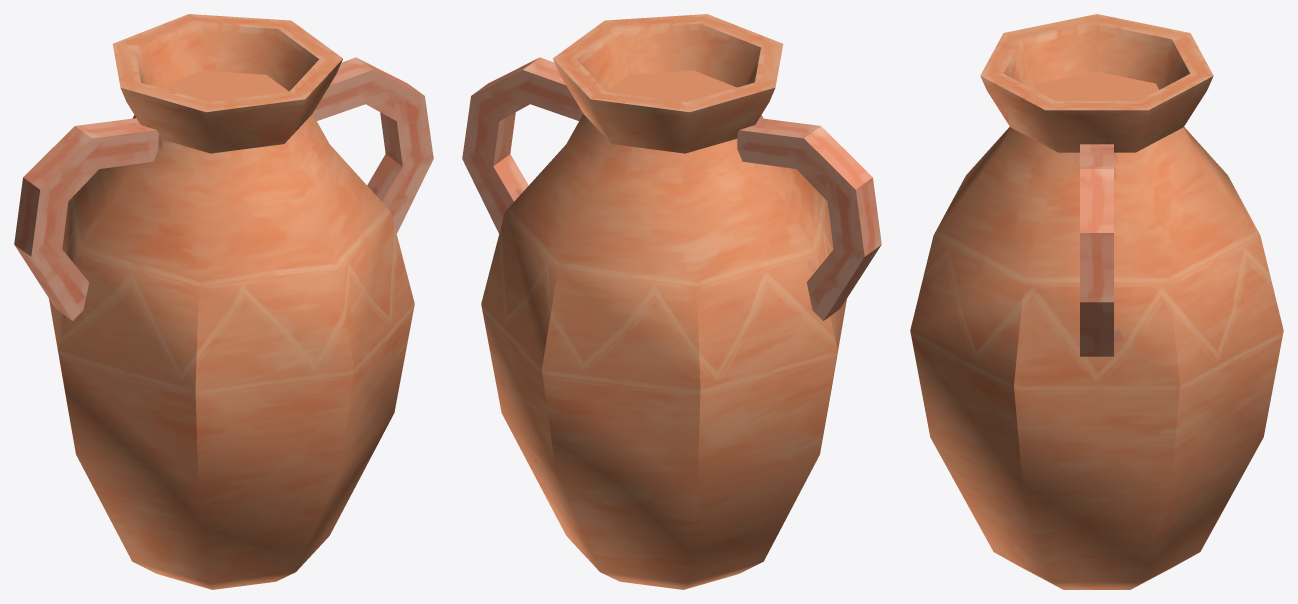
The model's file is pot_tall_low.fbx.
3 views of the same model, side by side, from view 1: azimuth 30°, elevation 25°; view 2: azimuth 150°, elevation 25°; view 3: azimuth 270°, elevation 25° (orthographic).
Parts seen in each view (by area): view 1: pot_tall; view 2: pot_tall; view 3: pot_tall.
Part boxes in pixels (x1=…): pot_tall: x1=14, y1=14, x2=433, y2=589; pot_tall: x1=462, y1=14, x2=881, y2=589; pot_tall: x1=910, y1=14, x2=1283, y2=589.
Bounding box in the file's own units: 2.72 × 3.2 × 2.18.
1 material, 1 textured.
